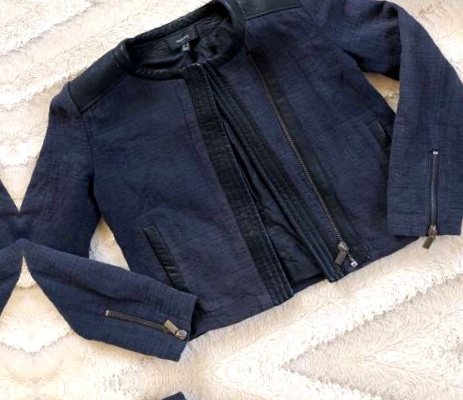Blazer: (4, 0, 463, 373), (42, 364, 463, 400), (0, 18, 30, 400), (0, 0, 462, 7)
